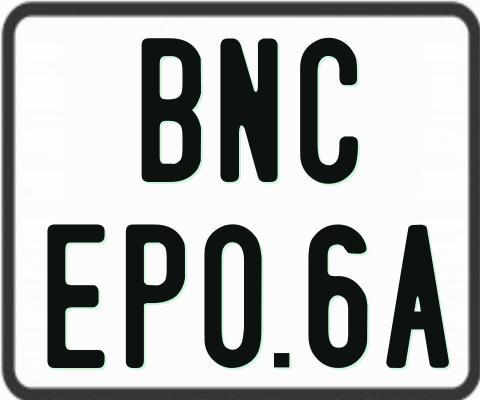0: (203, 221, 263, 365)
6: (306, 224, 370, 369)
A: (386, 224, 455, 372)
B: (139, 36, 202, 186)
C: (298, 38, 362, 185)
E: (44, 224, 102, 367)
N: (218, 38, 277, 187)
P: (123, 223, 183, 372)
